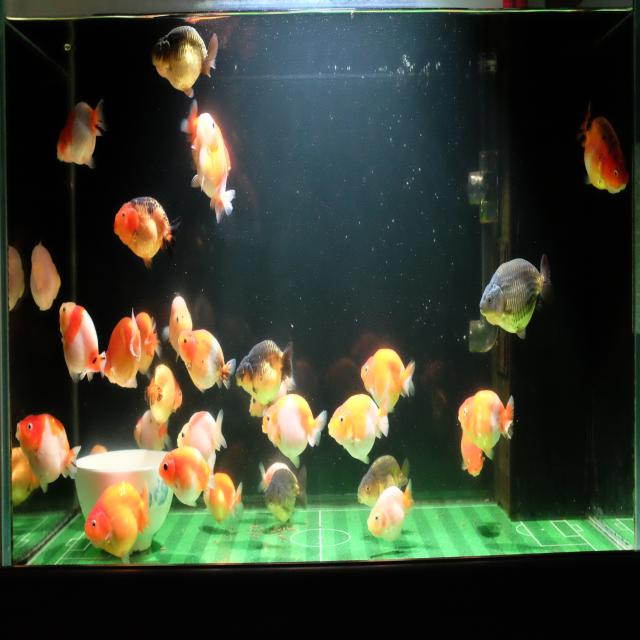Tilapia: (478, 251, 556, 341), (84, 479, 152, 565), (112, 193, 183, 273), (575, 97, 631, 197), (14, 412, 82, 494), (190, 111, 236, 228), (260, 392, 328, 469), (151, 24, 218, 100), (326, 392, 391, 466), (456, 386, 516, 463), (58, 301, 107, 384), (55, 96, 107, 174), (360, 347, 417, 416), (157, 445, 217, 510), (177, 328, 236, 394), (235, 338, 293, 400), (103, 306, 143, 391), (143, 358, 184, 438), (176, 406, 228, 469), (365, 479, 415, 544), (356, 454, 412, 511), (261, 466, 309, 528), (202, 469, 245, 531), (131, 307, 165, 381), (29, 240, 62, 316), (247, 372, 296, 420), (162, 292, 194, 364), (459, 420, 486, 478)
